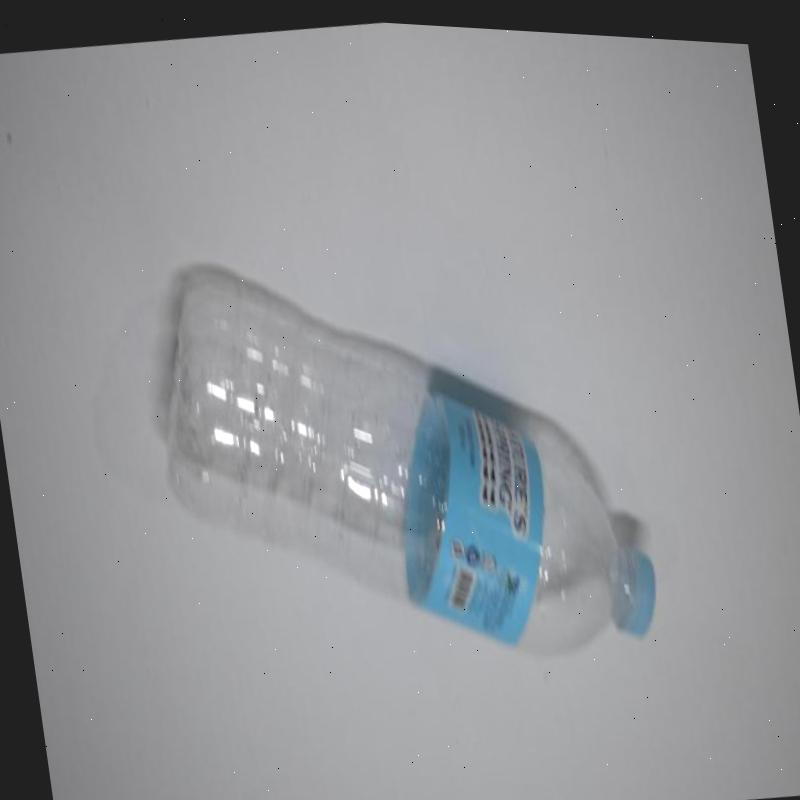botella: (136, 213, 664, 704)
